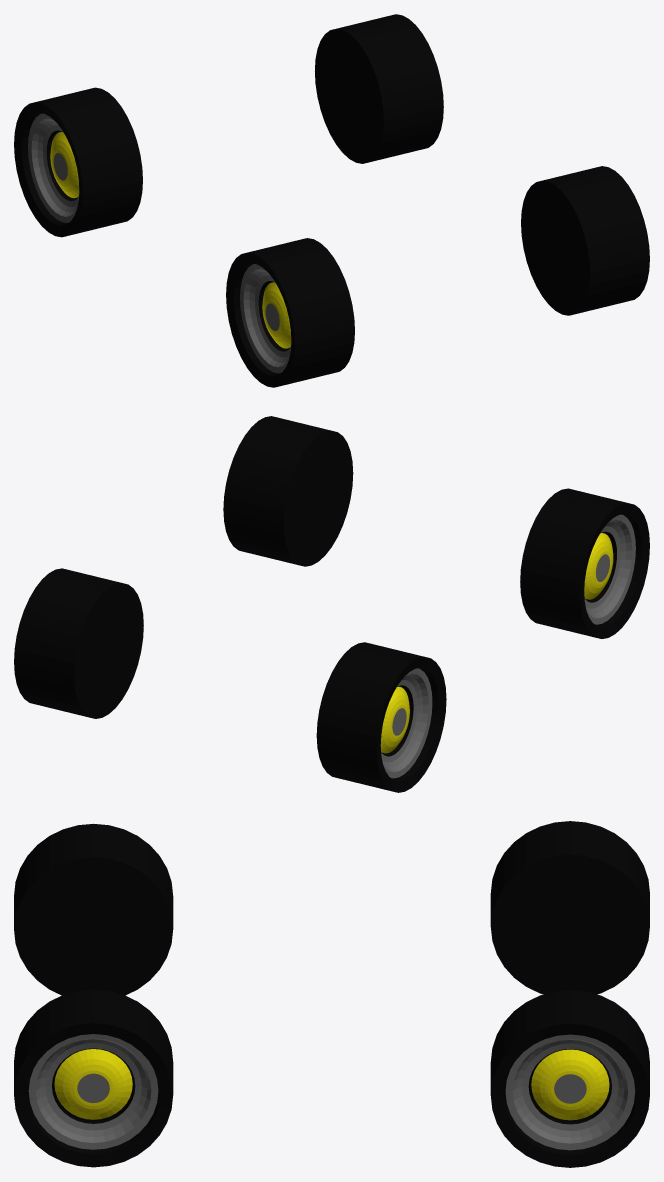
File: Wheels.fbx
The picture shows the model from 3 angles, top to bottom: view 1: azimuth 30°, elevation 25°; view 2: azimuth 150°, elevation 25°; view 3: azimuth 270°, elevation 25°; orthographic projection. The views are drawn at different scales.
Parts seen in each view (by area): view 1: rodas-atras-direita, rodas-atras-esquerda, rodas-frente-direita, rodas-frente-esquerda; view 2: rodas-atras-esquerda, rodas-frente-direita, rodas-atras-direita, rodas-frente-esquerda; view 3: rodas-atras-direita, rodas-frente-direita, rodas-frente-esquerda, rodas-atras-esquerda.
Part boxes in pixels (left/top/right/bottom): rodas-atras-direita: left=521, top=166, right=649, bottom=315; rodas-atras-esquerda: left=226, top=238, right=354, bottom=387; rodas-frente-direita: left=315, top=14, right=443, bottom=163; rodas-frente-esquerda: left=14, top=87, right=142, bottom=237; rodas-atras-esquerda: left=520, top=488, right=649, bottom=638; rodas-frente-direita: left=14, top=568, right=143, bottom=718; rodas-atras-direita: left=223, top=416, right=353, bottom=566; rodas-frente-esquerda: left=316, top=642, right=446, bottom=792; rodas-atras-direita: left=14, top=989, right=173, bottom=1167; rodas-frente-direita: left=490, top=990, right=649, bottom=1167; rodas-frente-esquerda: left=490, top=821, right=649, bottom=994; rodas-atras-esquerda: left=14, top=823, right=173, bottom=995.
Size of the model in its own units: 177 by 58.69 by 234.
